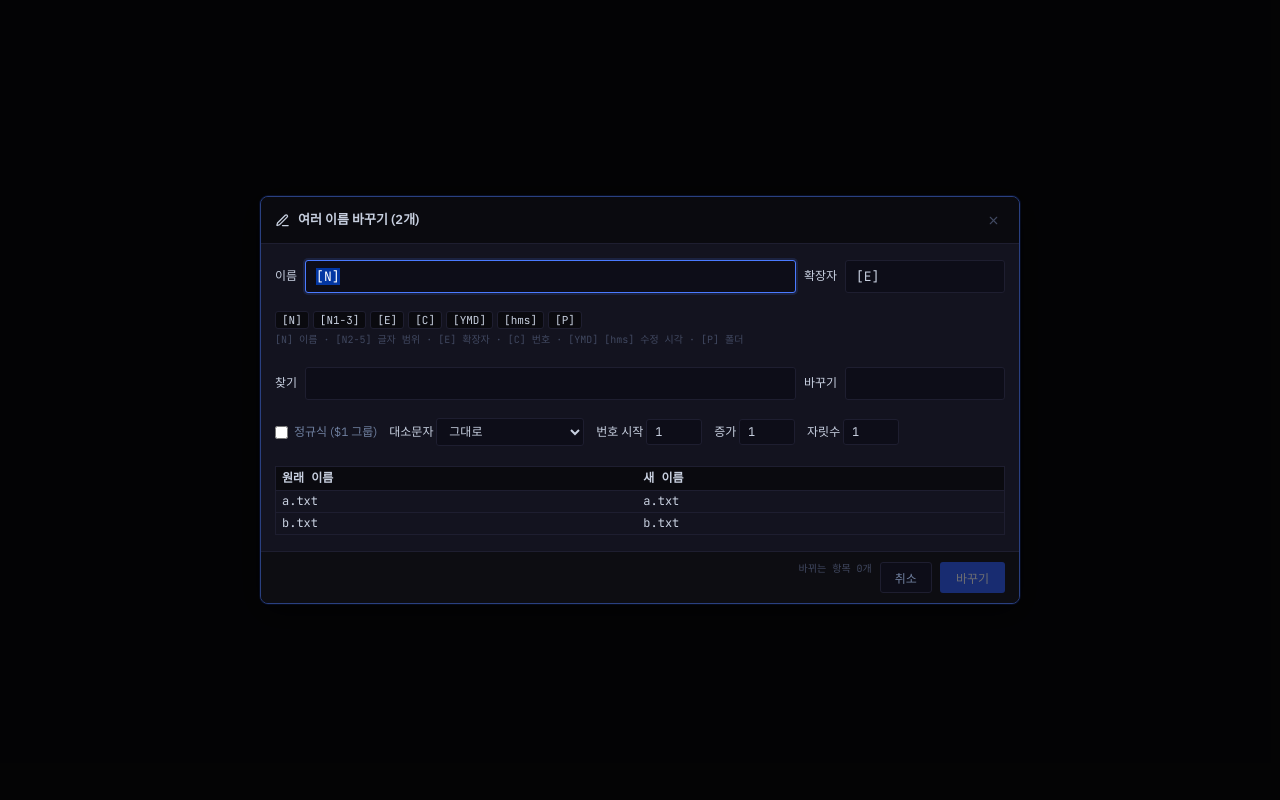
it: 여러 이름 바꾸기 창 (MD) › MD-02: 마스크를 바꾸면 미리 보기, 단추로 [C] 넣기
The image size is (1280, 800).
Replace the text in the field named "이름 마스크" with "pic_": (550, 277) [305,260,796,293]
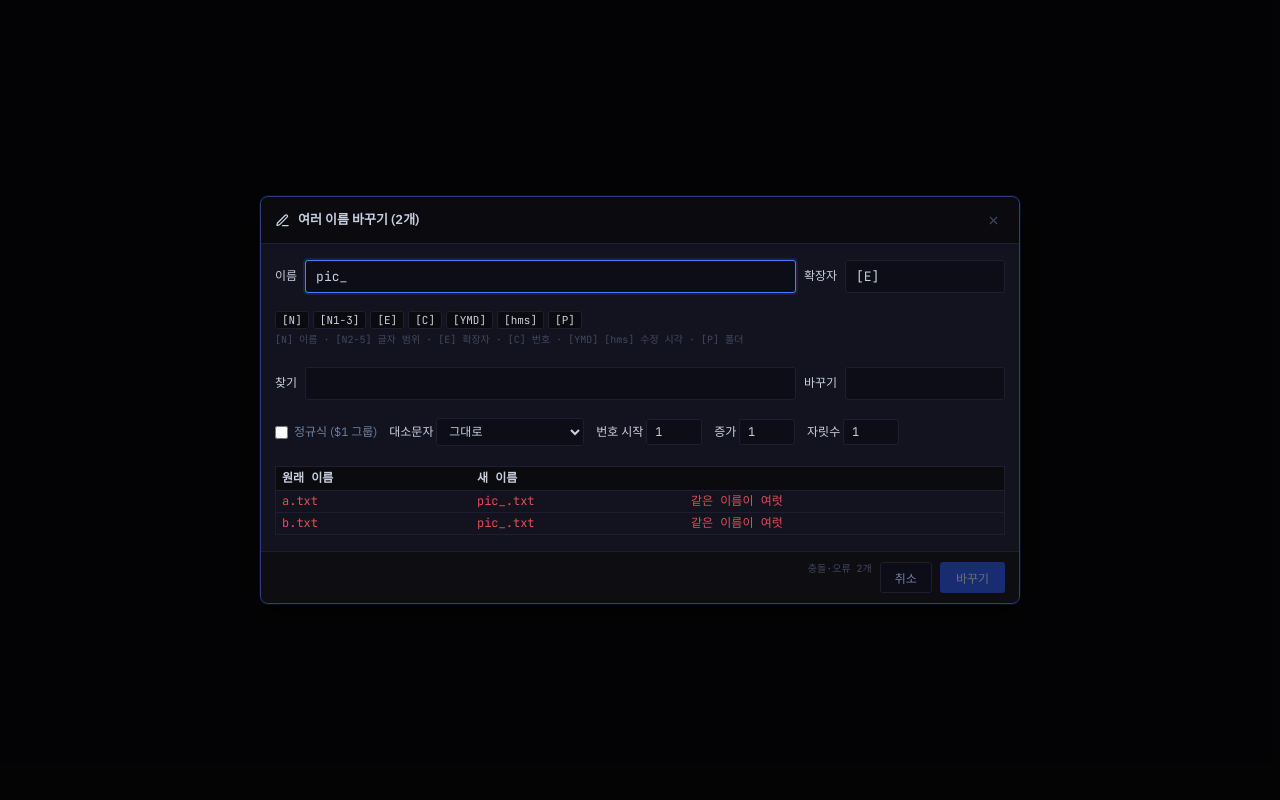
Click the button "[C]": click(425, 320) [408,311,442,329]
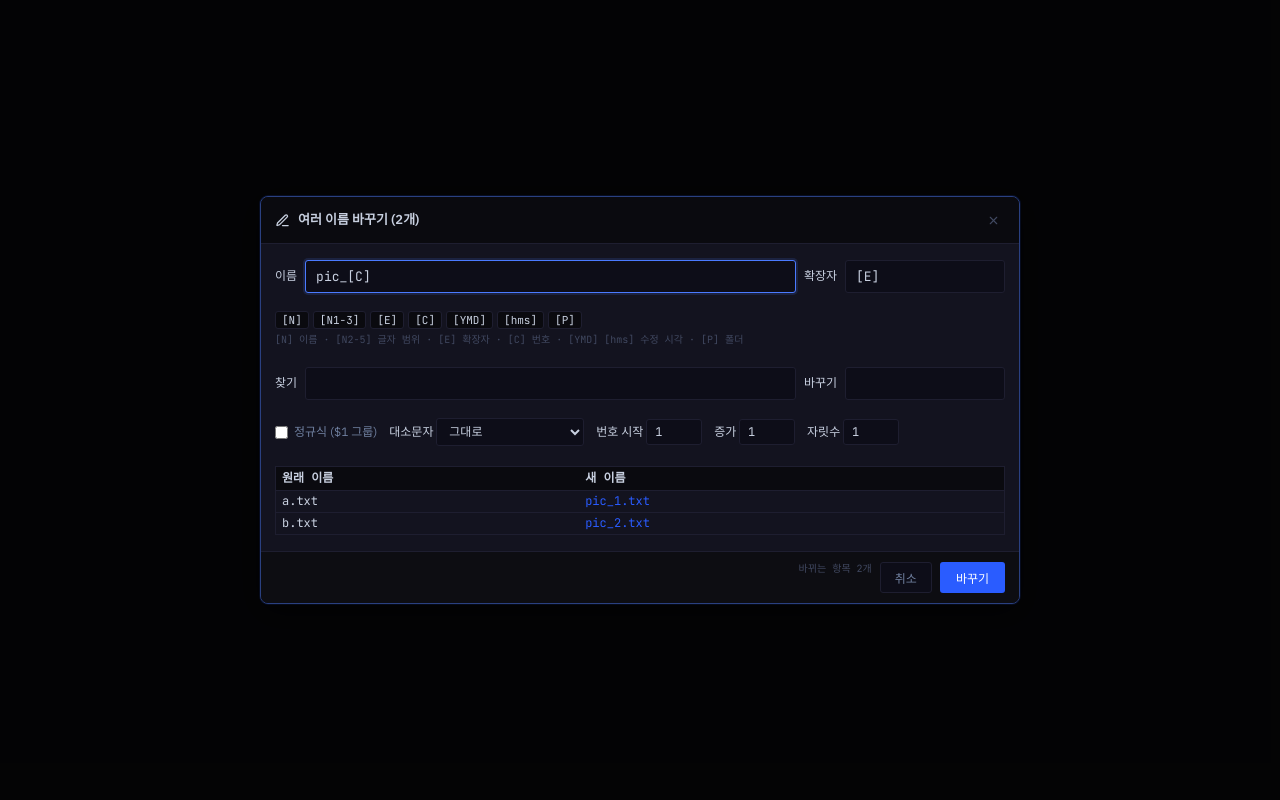
Result: the field named "이름 마스크" holds "pic_[C]" at [305,260,796,293]
Result: the button "바꾸기" is enabled at [940,562,1005,593]
